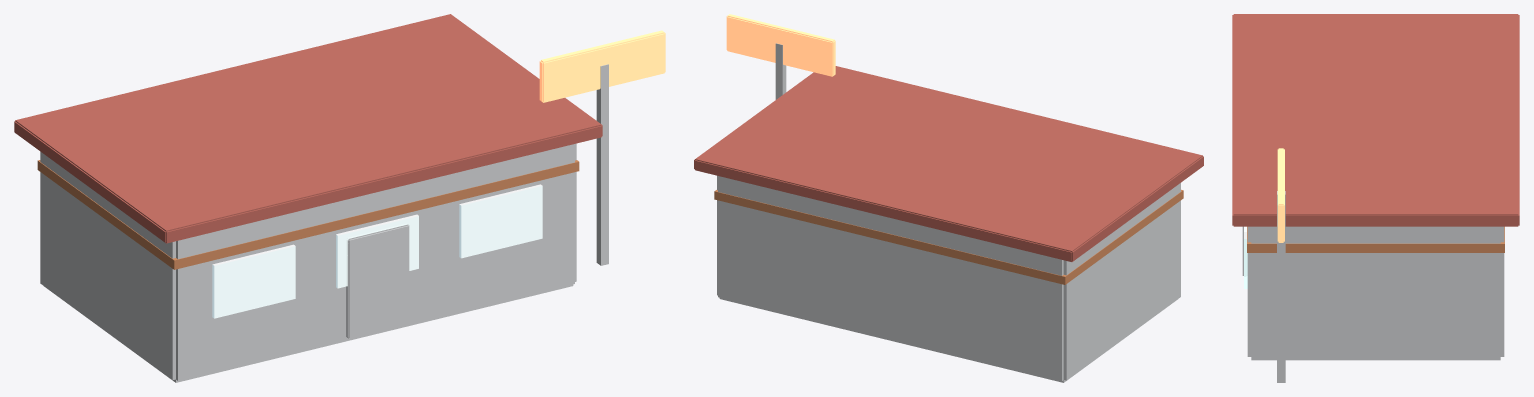
Rendered from diner.glb.
The picture shows the model from 3 angles, left to right: view 1: azimuth 30°, elevation 25°; view 2: azimuth 150°, elevation 25°; view 3: azimuth 270°, elevation 25°; orthographic projection. The views are drawn at different scales.
Parts seen in each view (by area): view 1: Roof, Body, Door, Stripe, Sign, Window_0, Window_2, Post, Window_1; view 2: Roof, Body, Stripe, Sign, Post; view 3: Roof, Body, Stripe, Post, Sign.
Boxes of the visible parts, <box> form: Roof: <box>14,14,602,243</box>; Body: <box>40,143,576,382</box>; Door: <box>346,224,409,338</box>; Stripe: <box>37,160,579,269</box>; Sign: <box>539,30,665,102</box>; Window_0: <box>459,184,542,258</box>; Window_2: <box>212,244,295,318</box>; Post: <box>596,64,608,265</box>; Window_1: <box>336,214,418,288</box>; Roof: <box>694,66,1203,261</box>; Body: <box>717,175,1180,382</box>; Stripe: <box>714,189,1183,284</box>; Sign: <box>726,14,835,76</box>; Post: <box>775,43,786,99</box>; Roof: <box>1232,14,1519,226</box>; Body: <box>1247,226,1504,360</box>; Stripe: <box>1247,226,1504,252</box>; Post: <box>1277,191,1285,382</box>; Sign: <box>1277,148,1284,242</box>.
Bounding box in the file's own units: 9.35 × 3.7 × 4.7.
